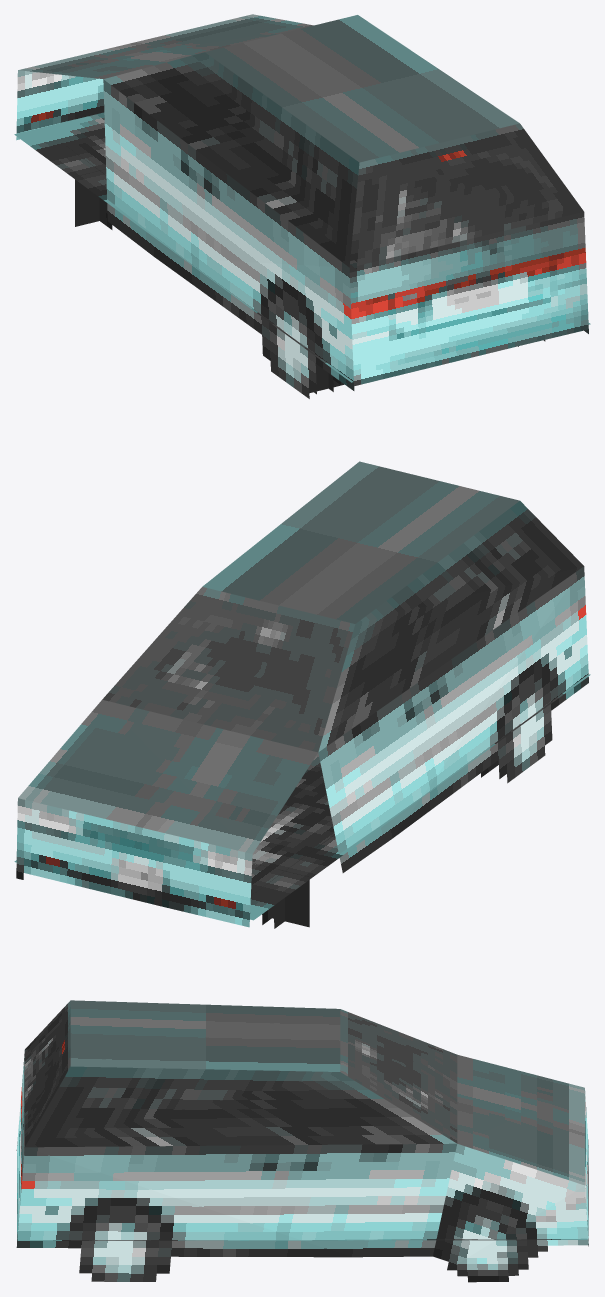
File: car-axxess-plt2.glb
The picture shows the model from 3 angles, top to bottom: view 1: azimuth 30°, elevation 25°; view 2: azimuth 150°, elevation 25°; view 3: azimuth 270°, elevation 25°; orthographic projection. The views are drawn at different scales.
Parts seen in each view (by area): view 1: car-axxess-plt2; view 2: car-axxess-plt2; view 3: car-axxess-plt2.
Part boxes in pixels (x1,y1,x2,y2): car-axxess-plt2: [14, 14, 590, 398]; car-axxess-plt2: [14, 461, 590, 928]; car-axxess-plt2: [16, 1000, 588, 1282].
Bounding box in the file's own units: 1.52 × 1.43 × 3.74.
Materials: 13 (13 with a texture image).
